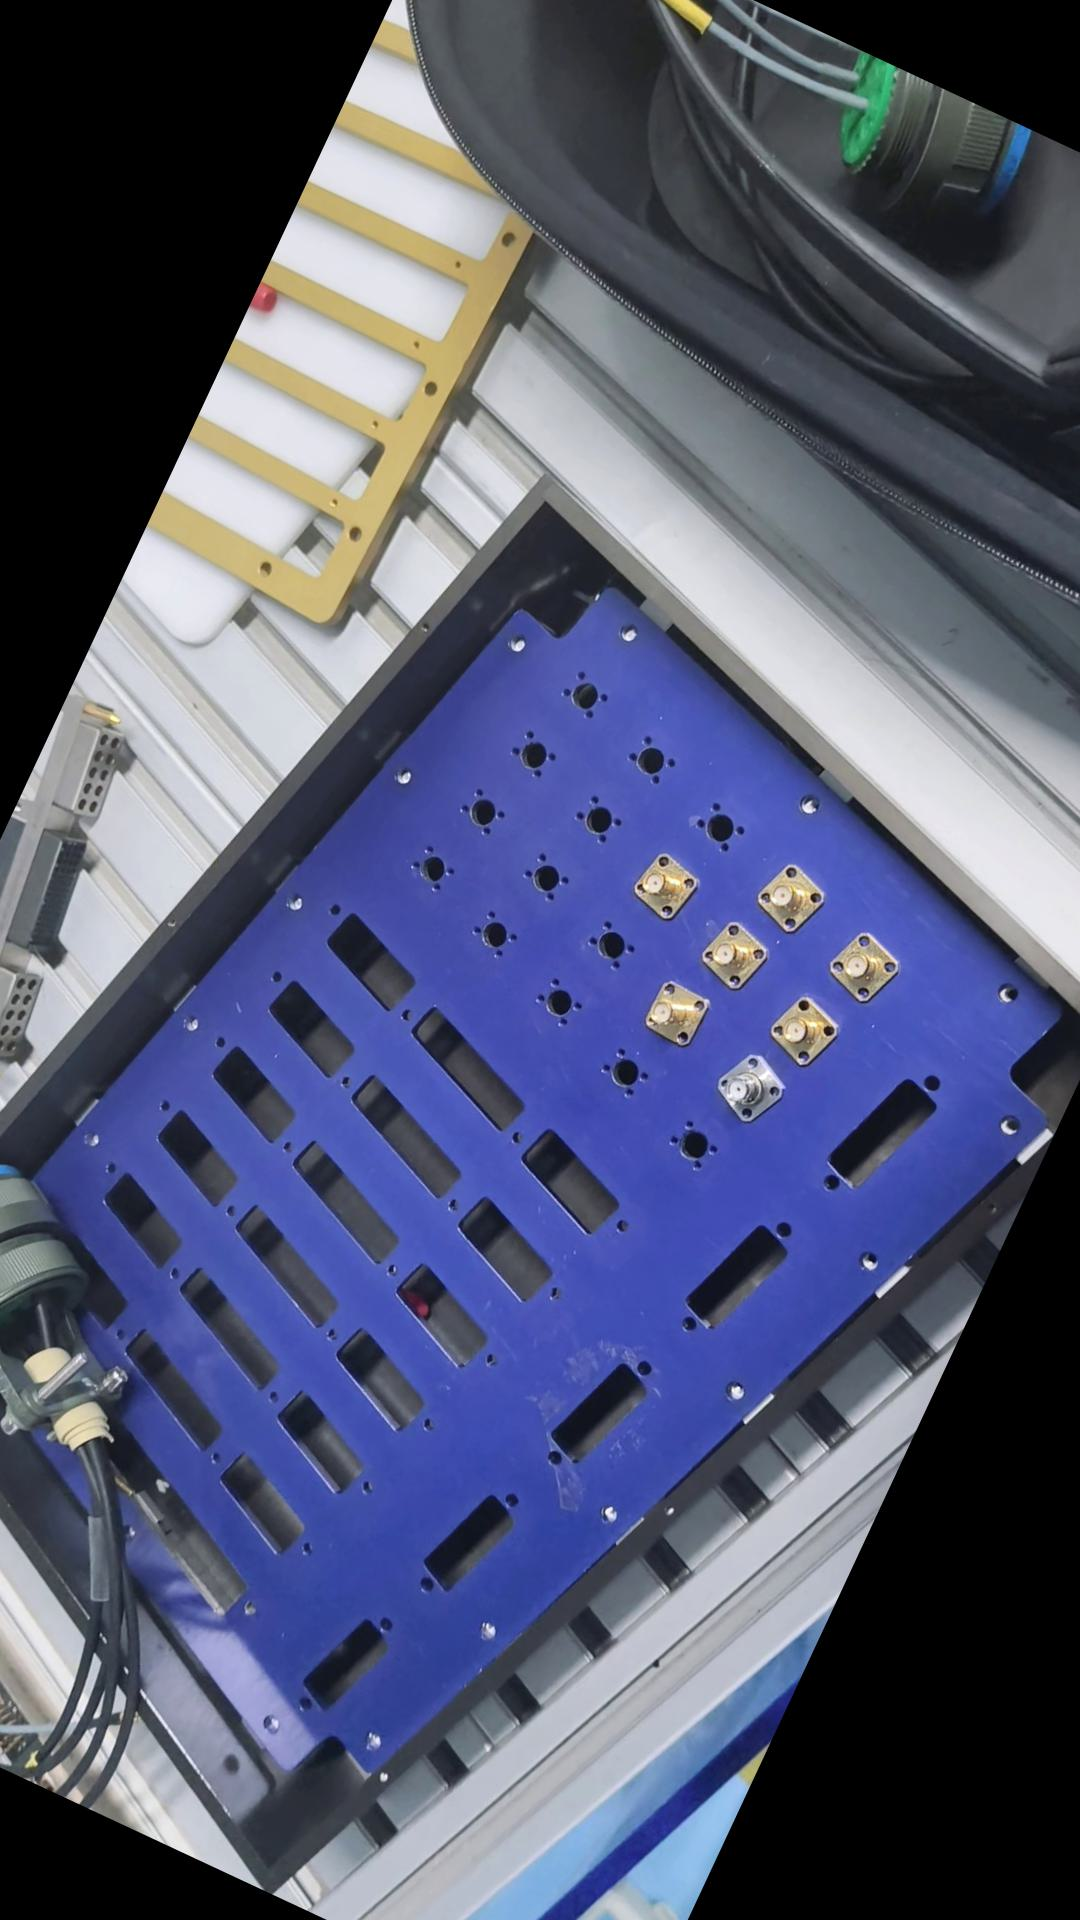SMA: (742, 849, 833, 939), (822, 916, 909, 1005), (762, 984, 847, 1069), (688, 914, 775, 996), (629, 973, 715, 1054), (617, 844, 699, 927), (711, 1046, 790, 1124)
